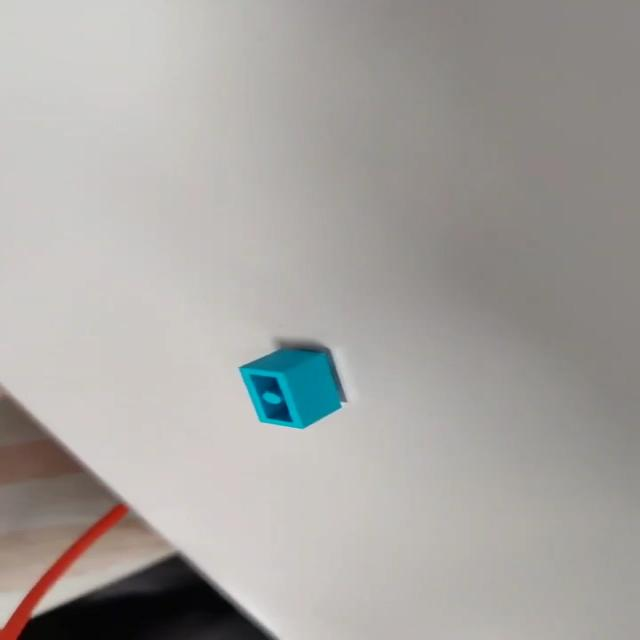C2x1x1: (235, 346, 348, 429)
